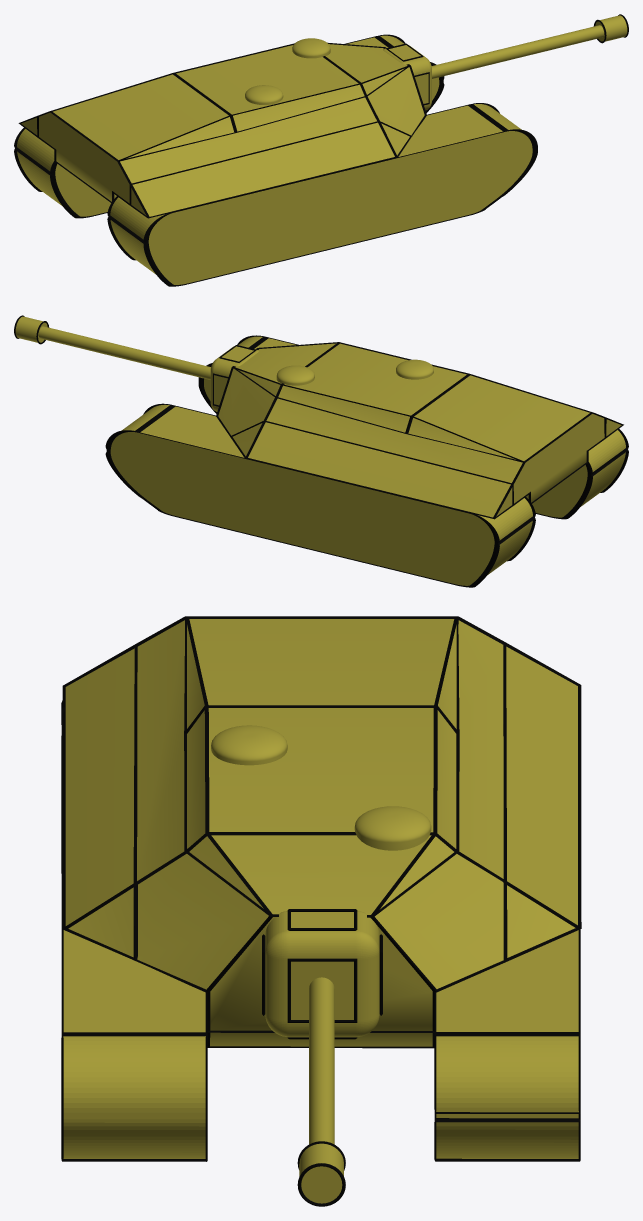
3 renders of one model, top to bottom at view 1: azimuth 30°, elevation 25°; view 2: azimuth 150°, elevation 25°; view 3: azimuth 270°, elevation 25°, orthographic. The views are drawn at different scales.
Parts seen in each view (by area): view 1: Cubo, Cubo.002, Cubo.001, Cubo.005, Cilindro.001, Cubo.004, Cubo.003, Cilindro.003, Cilindro.004, Cilindro.002; view 2: Cubo, Cubo.001, Cubo.002, Cubo.004, Cilindro.001, Cubo.005, Cubo.003, Cilindro.003, Cilindro.004, Cilindro.002; view 3: Cubo, Cubo.002, Cubo.001, Cubo.003, Cilindro.001, Cubo.004, Cubo.005, Cilindro.003, Cilindro.004, Cubo.006, Cilindro.002.
Part boxes in pixels (x1,y1,x2,y2): Cubo: (18, 42, 426, 218); Cubo.002: (110, 104, 532, 284); Cubo.001: (17, 35, 439, 216); Cubo.005: (107, 103, 537, 286); Cilindro.001: (431, 25, 603, 78); Cubo.004: (14, 34, 444, 218); Cubo.003: (383, 45, 431, 110); Cilindro.003: (292, 38, 330, 58); Cilindro.004: (245, 85, 283, 104); Cilindro.002: (595, 15, 627, 41); Cubo: (216, 342, 623, 519); Cubo.001: (110, 404, 532, 585); Cubo.002: (204, 336, 625, 517); Cubo.004: (105, 403, 535, 587); Cilindro.001: (39, 326, 210, 379); Cubo.005: (198, 335, 628, 519); Cubo.003: (210, 346, 258, 411); Cilindro.003: (276, 365, 314, 385); Cilindro.004: (396, 359, 433, 379); Cilindro.002: (15, 316, 47, 342); Cubo: (62, 616, 581, 1048); Cubo.002: (63, 930, 205, 1158); Cubo.001: (436, 930, 578, 1158); Cubo.003: (265, 911, 379, 1037); Cilindro.001: (309, 977, 334, 1144); Cubo.004: (434, 929, 580, 1161); Cubo.005: (61, 700, 207, 1161); Cilindro.003: (354, 806, 431, 850); Cilindro.004: (211, 725, 287, 765); Cubo.006: (262, 909, 382, 1039); Cilindro.002: (299, 1143, 343, 1203).
Bounding box in the file's own units: 19.74 × 4.54 × 8.16.
